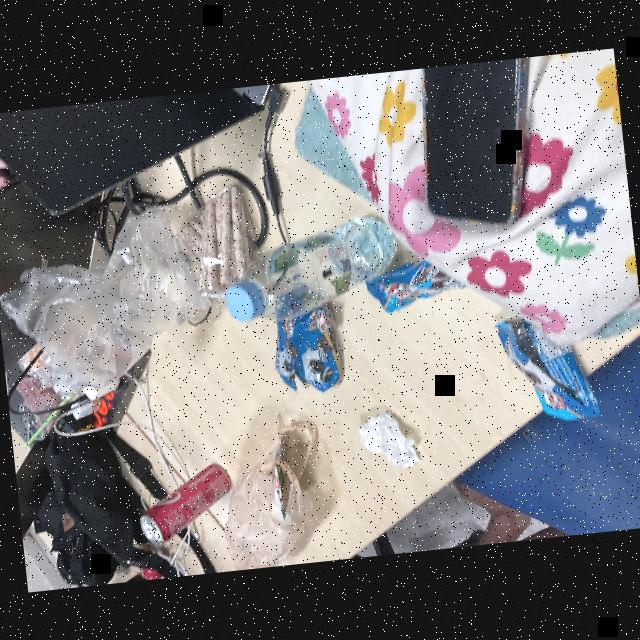can: (129, 455, 239, 547)
plastic_bag: (0, 197, 221, 399), (208, 412, 338, 572)
plastic_bottle: (212, 206, 406, 334), (28, 360, 68, 396)
plastic_bottle_cap: (220, 281, 258, 324)
plastic_cup: (7, 395, 69, 447)
scrap_paper: (350, 404, 426, 475)
snack_bag: (486, 302, 606, 434), (170, 179, 260, 306), (265, 277, 346, 396), (361, 250, 468, 316)
straw: (17, 406, 61, 452)
